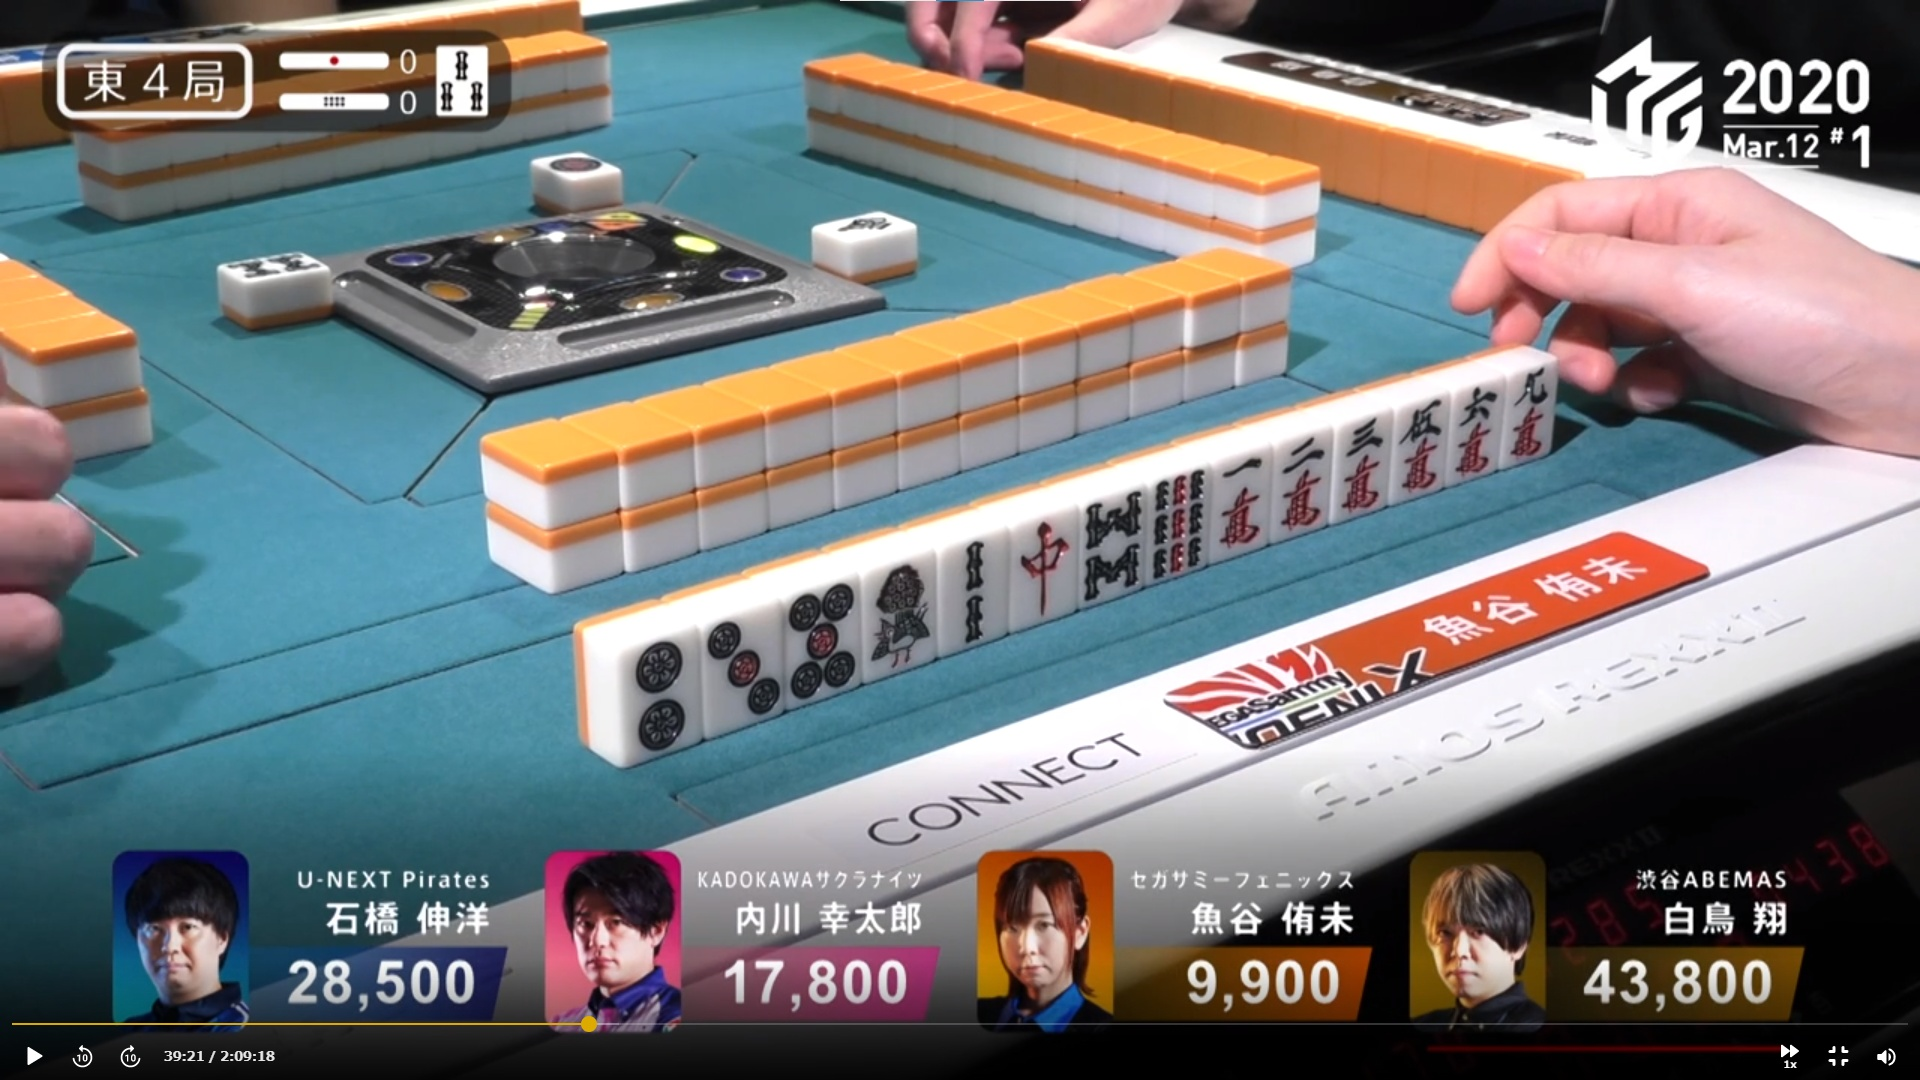1m: (1209, 423, 1266, 558)
1s: (865, 537, 935, 680)
2m: (1270, 404, 1328, 538)
2p: (589, 597, 698, 761)
2s: (940, 508, 1009, 651)
3m: (1331, 386, 1386, 517)
3p: (703, 579, 778, 733)
5m: (1393, 369, 1440, 500)
5p: (781, 556, 856, 704)
6m: (1443, 360, 1497, 487)
8s: (1087, 465, 1142, 604)
9m: (1499, 342, 1549, 465)
9s: (1146, 442, 1211, 582)
chun: (1004, 491, 1083, 629)
hand_ton_4: (49, 40, 264, 125)
round_0: (270, 83, 422, 119)
team_segasammy: (1159, 618, 1462, 750)
